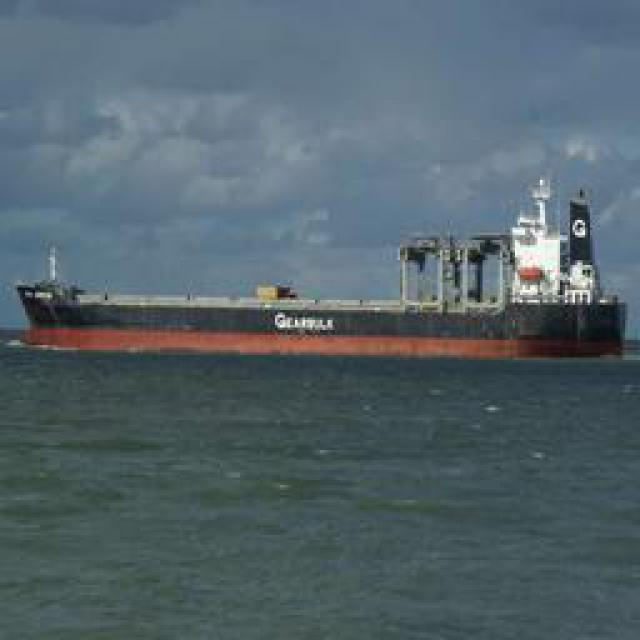Ship: (24, 275, 617, 360)
